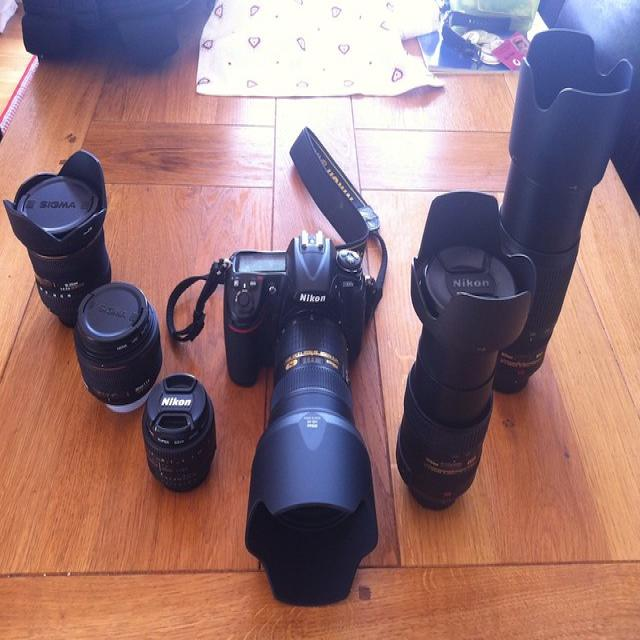camera: (221, 245, 386, 610), (496, 27, 629, 398), (394, 186, 536, 513), (2, 145, 134, 312), (64, 271, 166, 416), (141, 374, 217, 494)
